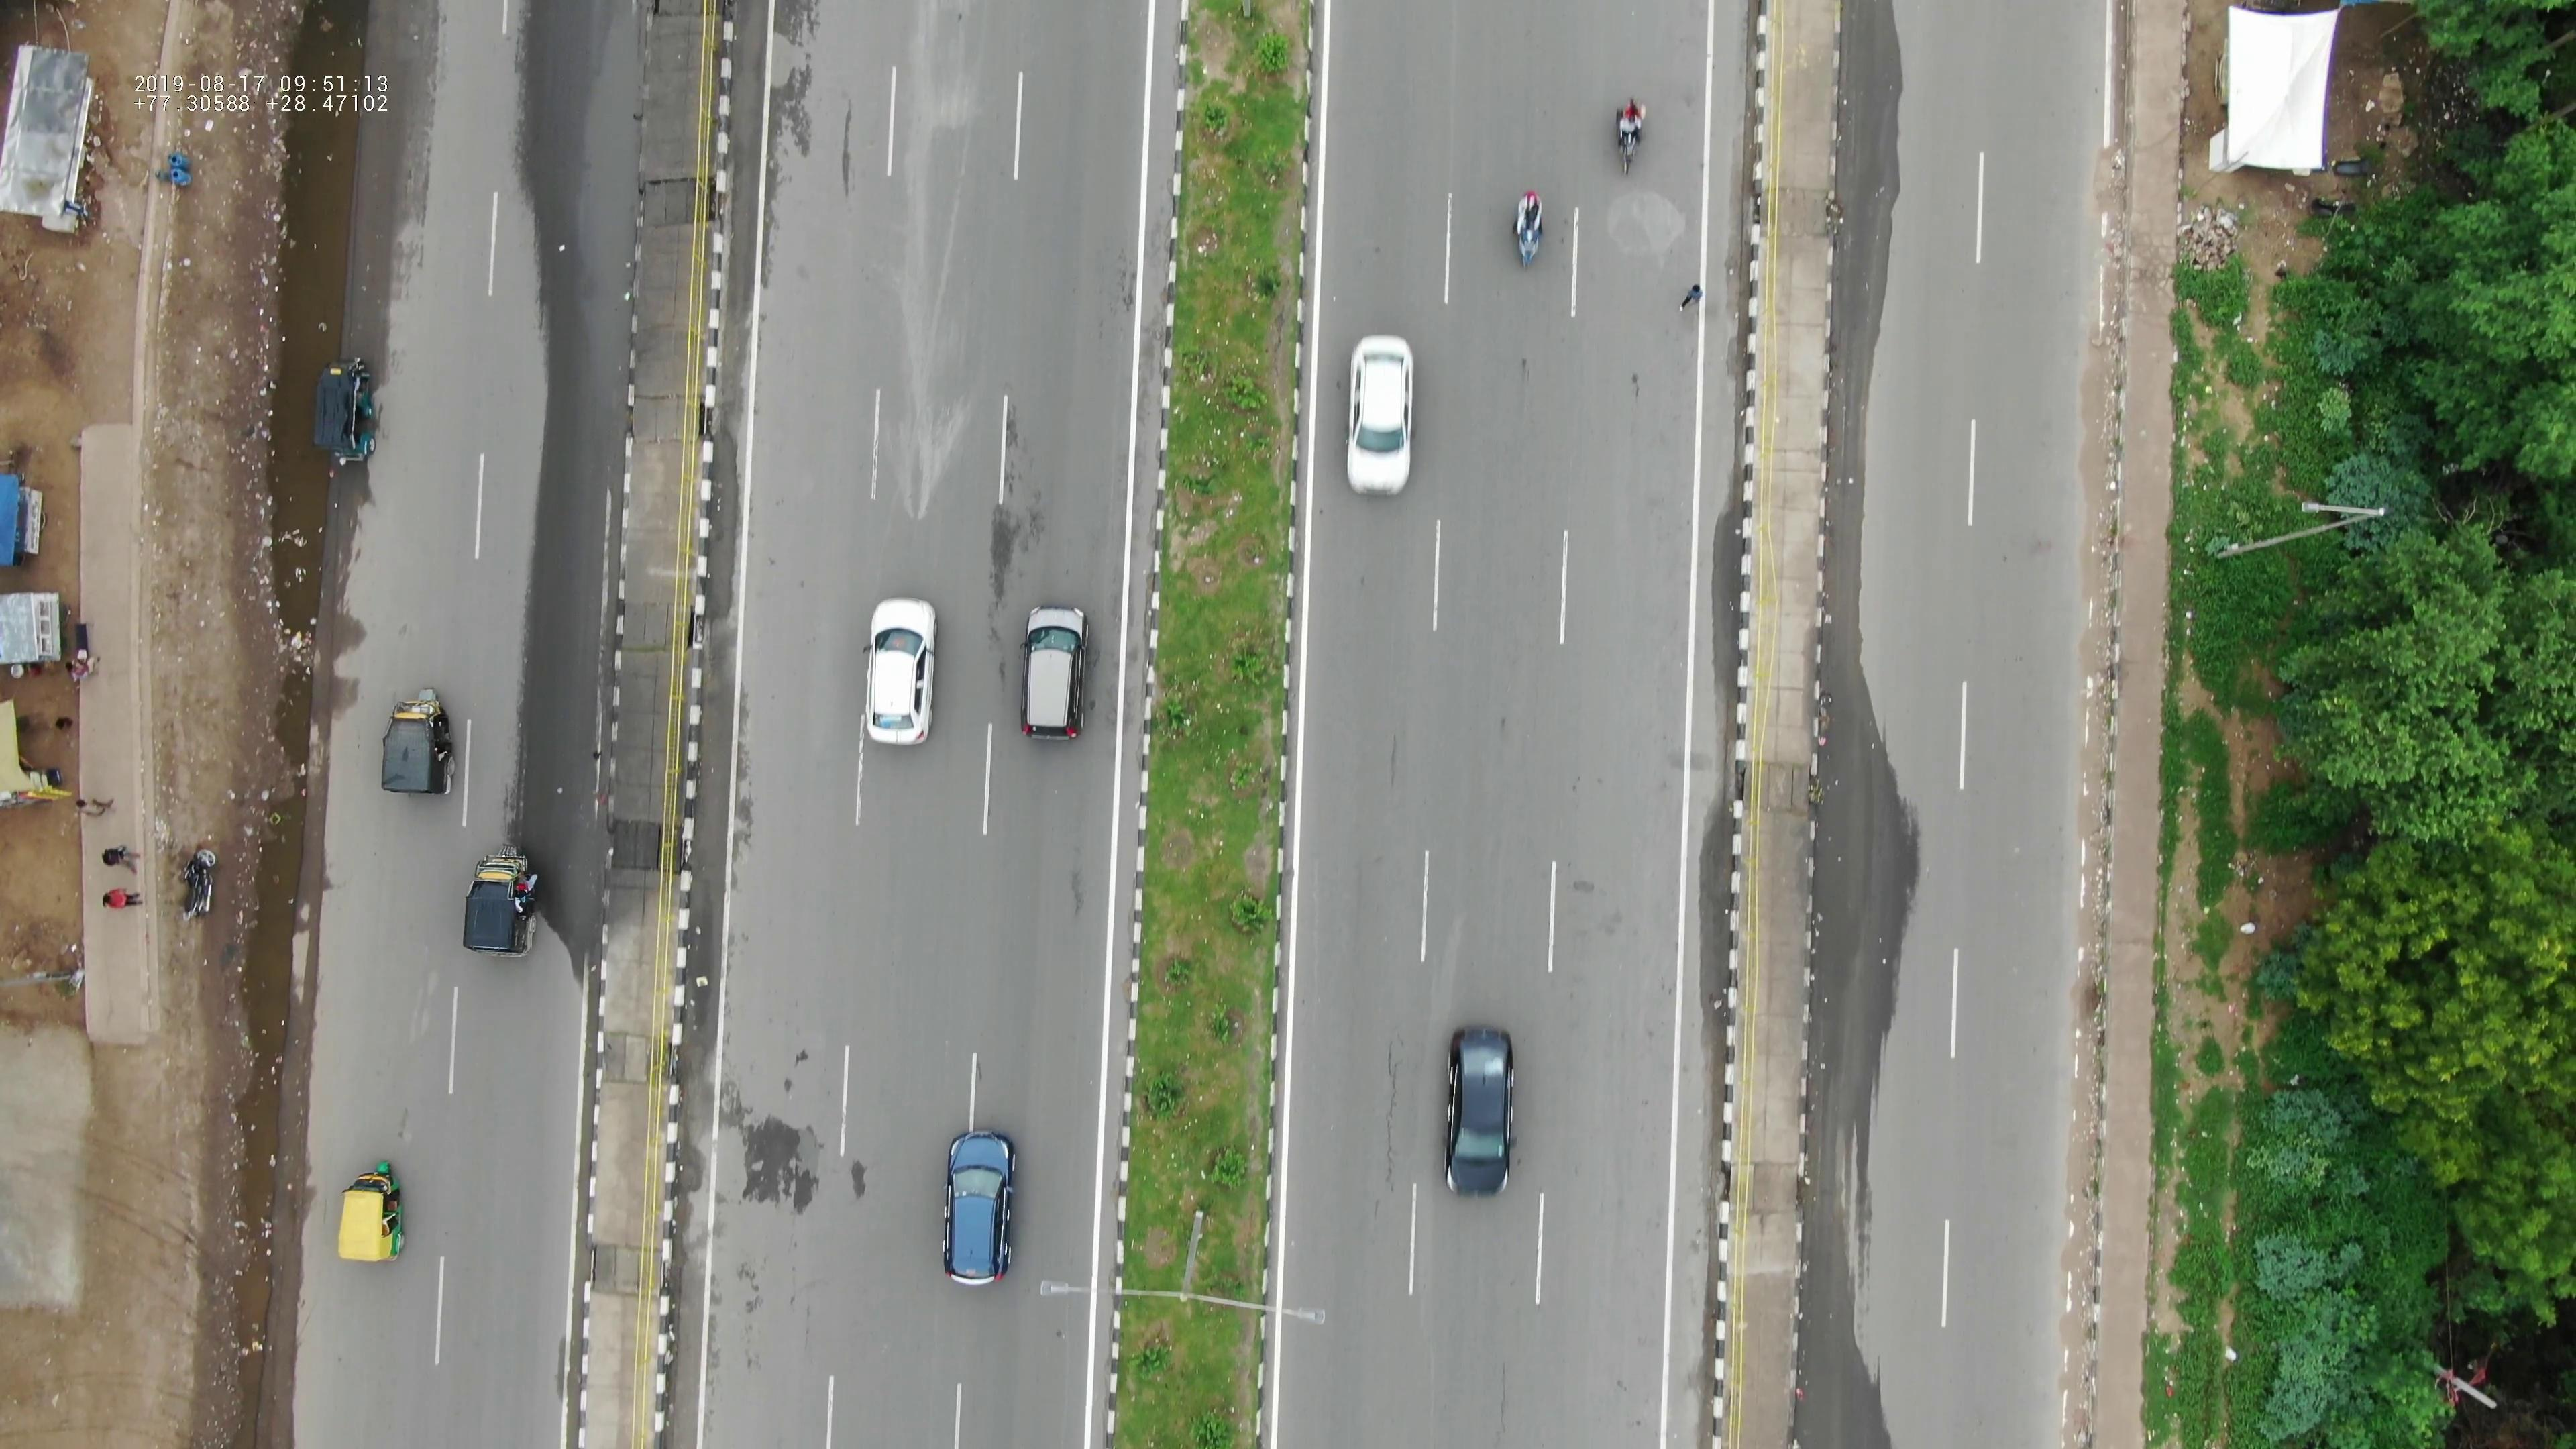Hair_cracks: (763, 30, 865, 216), (1357, 1031, 1414, 1238), (982, 400, 1039, 594)
Potholes: (722, 1093, 878, 1253)
Waterlogging: (216, 844, 338, 1154), (280, 19, 366, 361), (253, 403, 331, 740)
